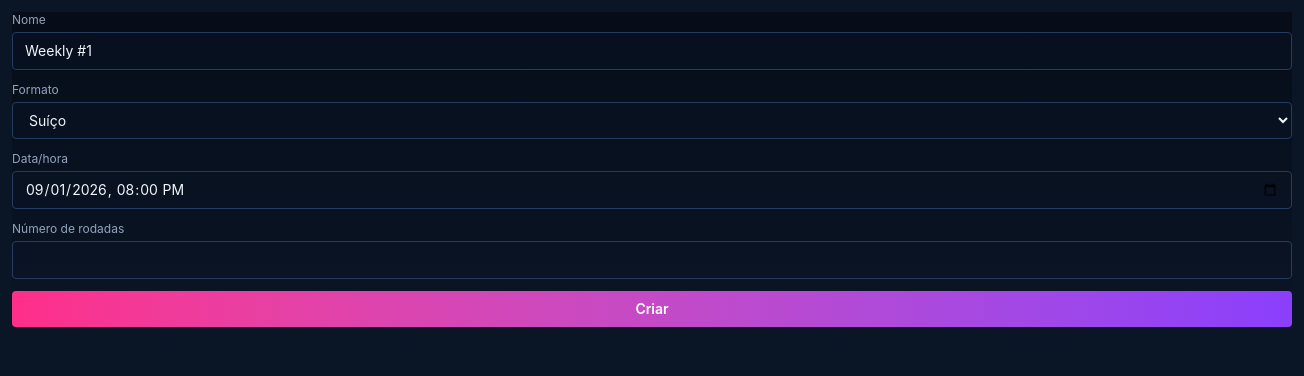
Scenario: TournamentForm › blocks submit when SWISS is missing roundsCount
Click the button "Criar" at coordinates (652, 309), box [12,291,1292,327]
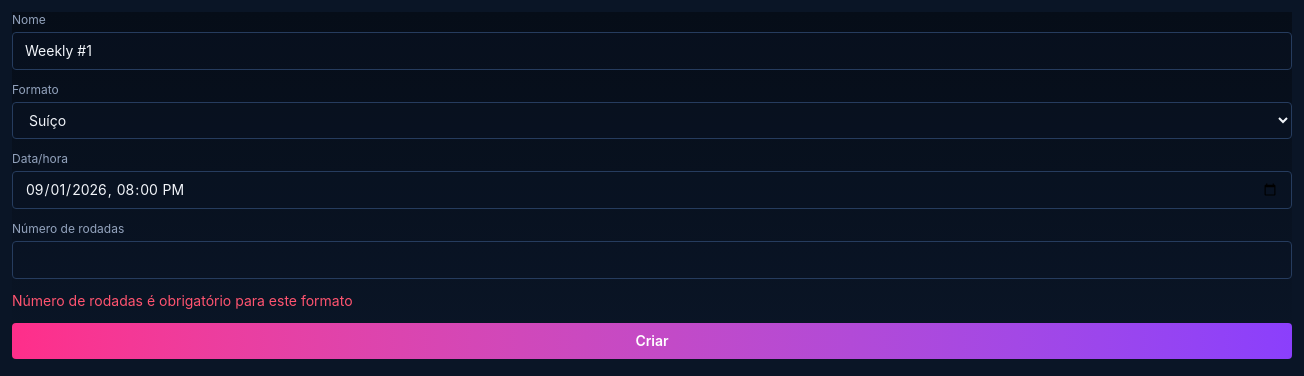
expect the text "Número de rodadas é obrigatório para este formato" is shown: met, box [12,292,353,309]
